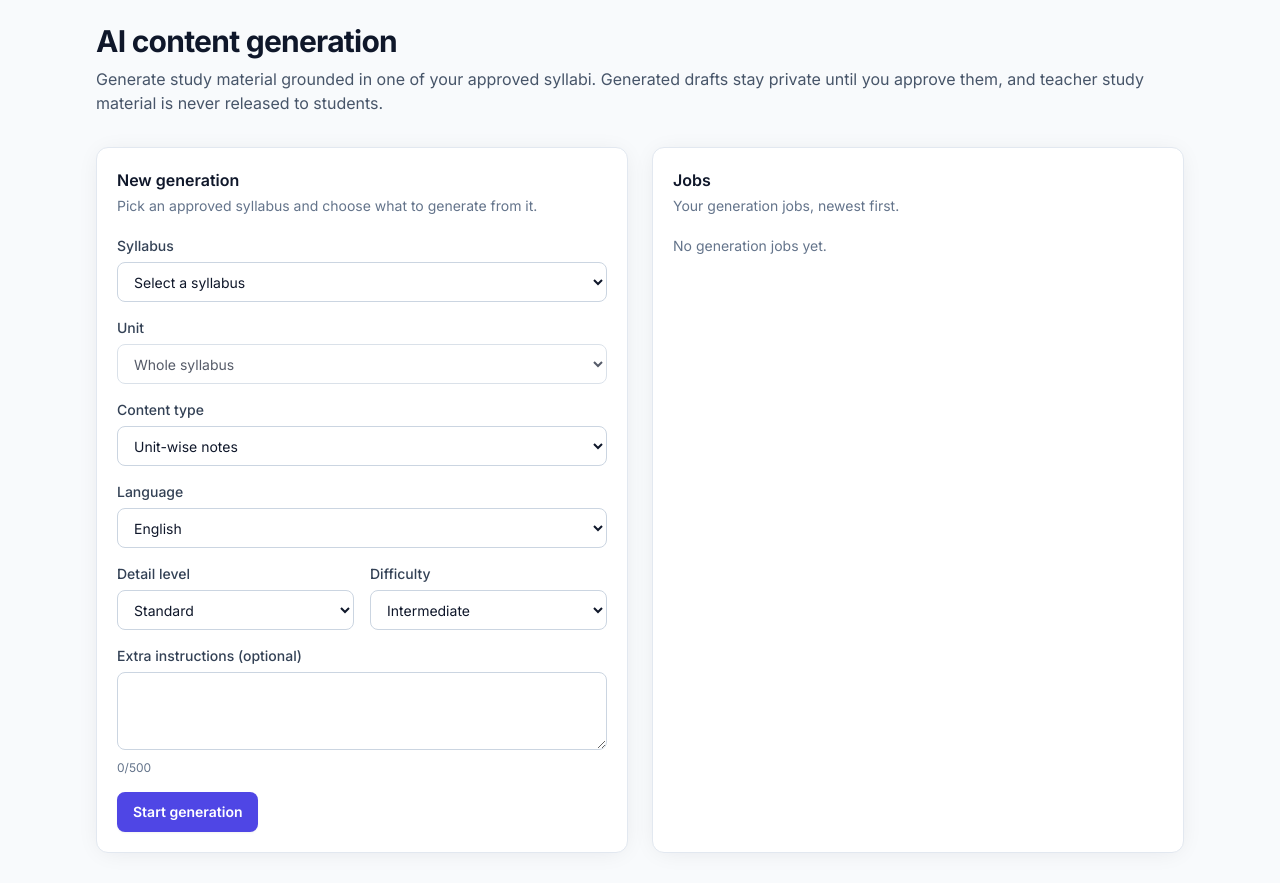
it: TeacherContent › cleans up the poll timer on unmount
The width and height of the screenshot is (1280, 883).
Select "CS101 · SEC-A (v2)" in the dropdown labelled "Syllabus" at point(362, 282), box [117,262,607,302]
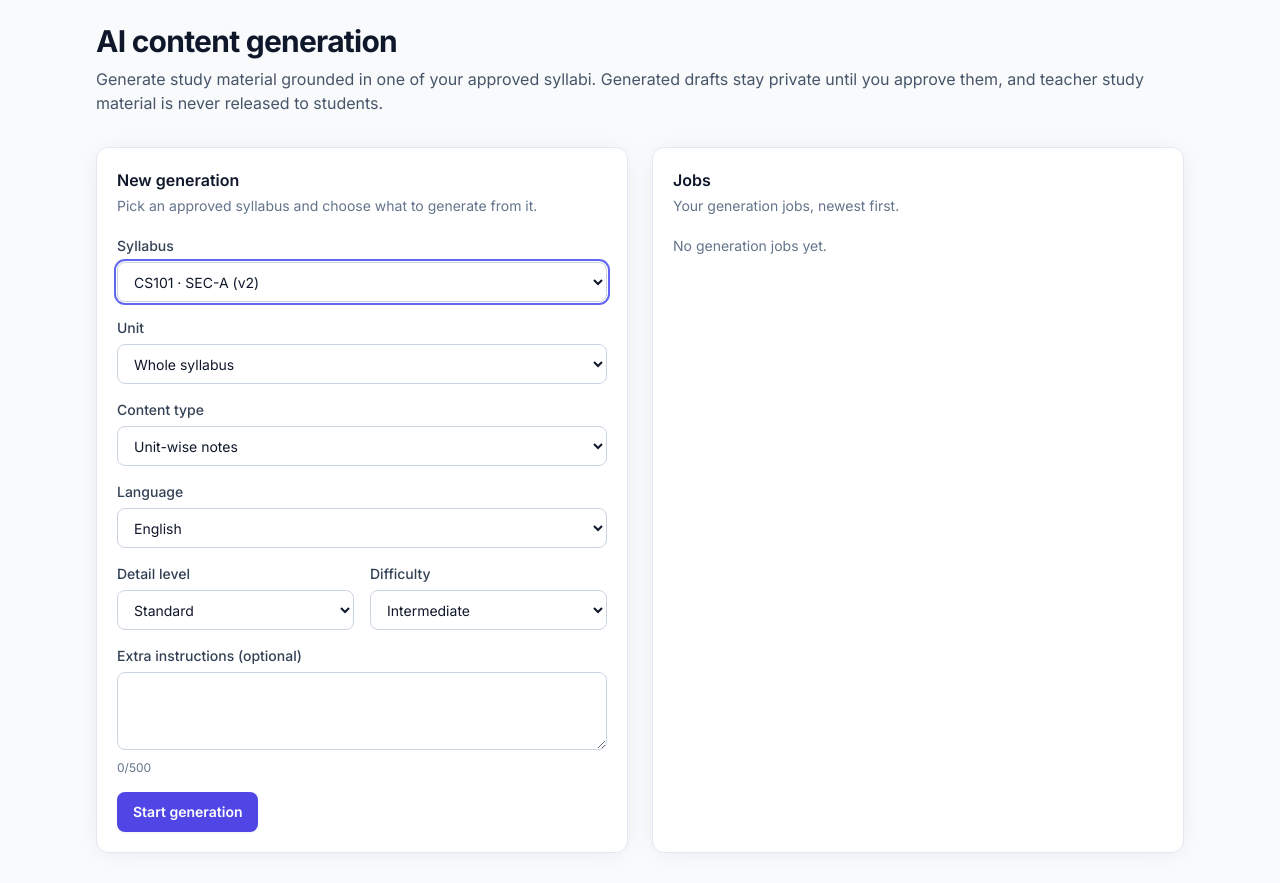
Click the button "Start generation" at point(188, 812), box [117,792,258,832]
Wait 2500 ms
(page scrolled)
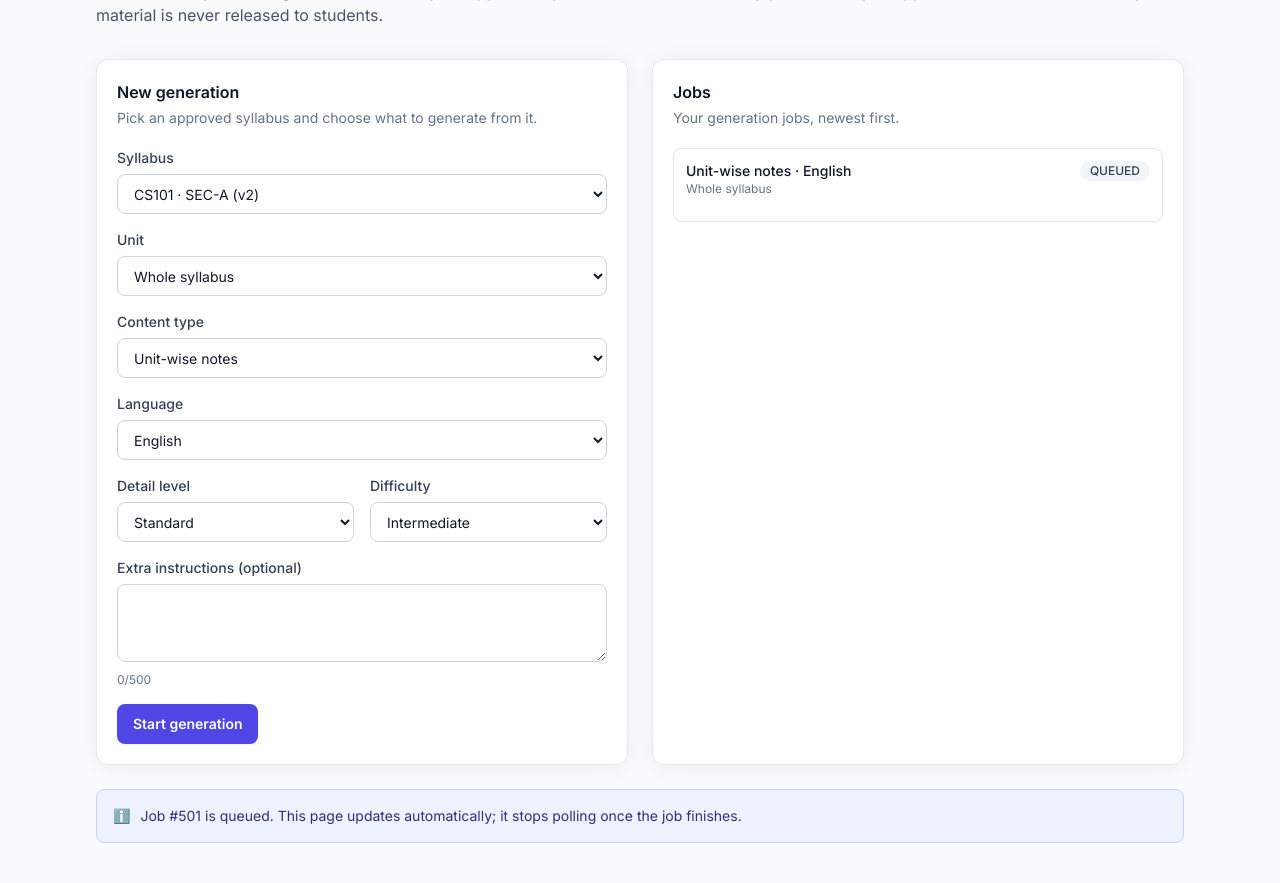
Expected: the text "is queued" is shown, [140,807,742,824]
